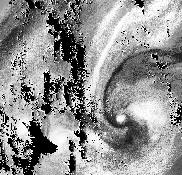CE: (88, 88, 156, 159)
